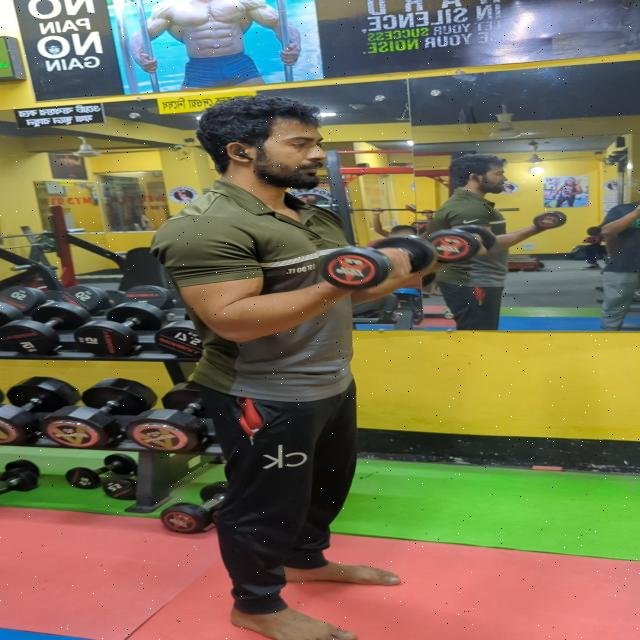Normal_DumbbellBicepCurls: (109, 89, 464, 601)
